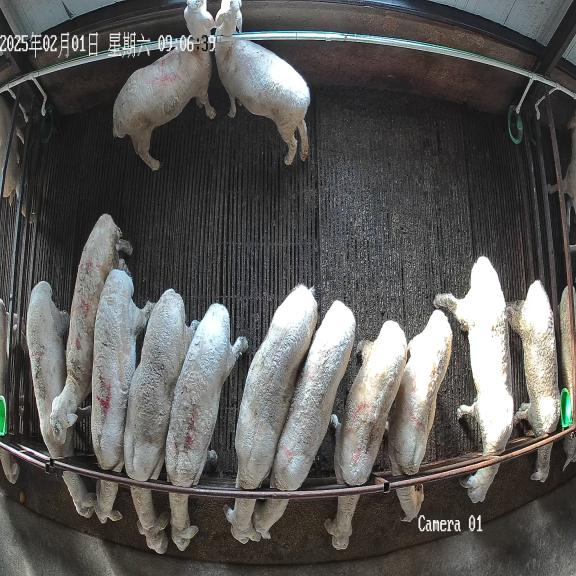eating: (252, 300, 356, 538), (223, 284, 317, 544), (165, 304, 248, 550), (433, 256, 513, 503), (124, 289, 198, 553), (324, 320, 407, 550), (26, 281, 97, 518), (91, 258, 153, 523), (388, 310, 452, 522), (507, 280, 560, 482)
stand: (50, 214, 133, 456), (113, 0, 215, 170), (214, 0, 310, 165)
